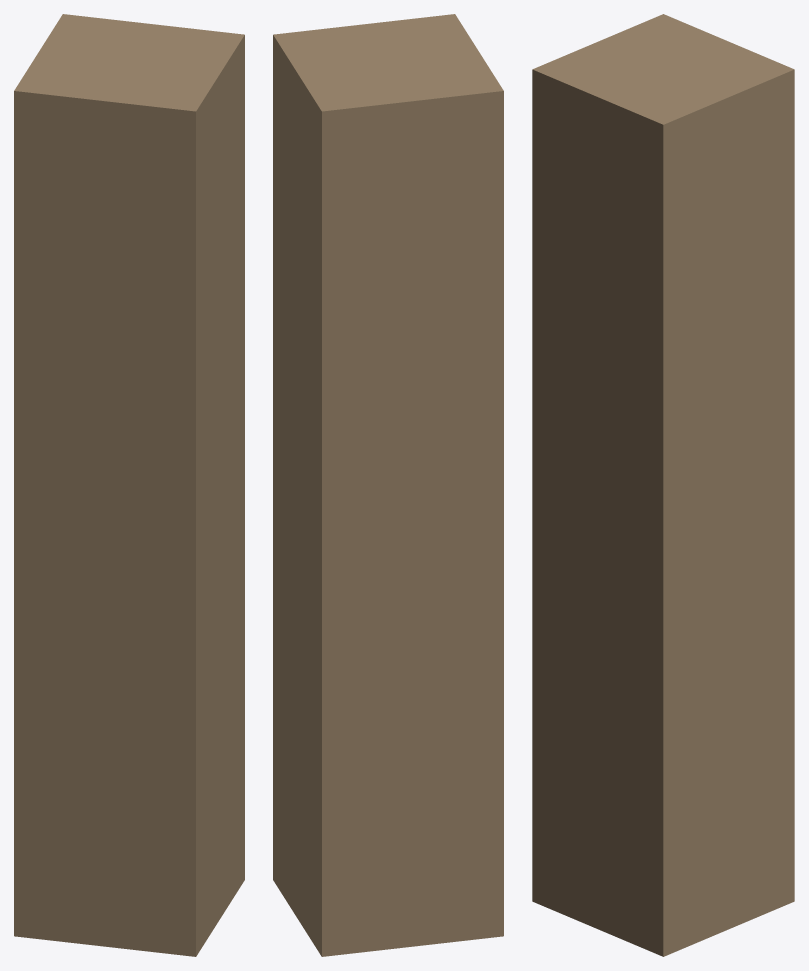
Rendered from fishing_rod.glb.
The picture shows the model from 3 angles, left to right: view 1: azimuth 30°, elevation 25°; view 2: azimuth 150°, elevation 25°; view 3: azimuth 270°, elevation 25°; orthographic projection.
Parts seen in each view (by area): view 1: fishing_rod; view 2: fishing_rod; view 3: fishing_rod.
Boxes of the visible parts, x1=… form: fishing_rod: x1=14, y1=14, x2=244, y2=956; fishing_rod: x1=273, y1=14, x2=503, y2=956; fishing_rod: x1=532, y1=14, x2=794, y2=956.
Size of the model in its own units: 0.01 by 0.035 by 0.01.
